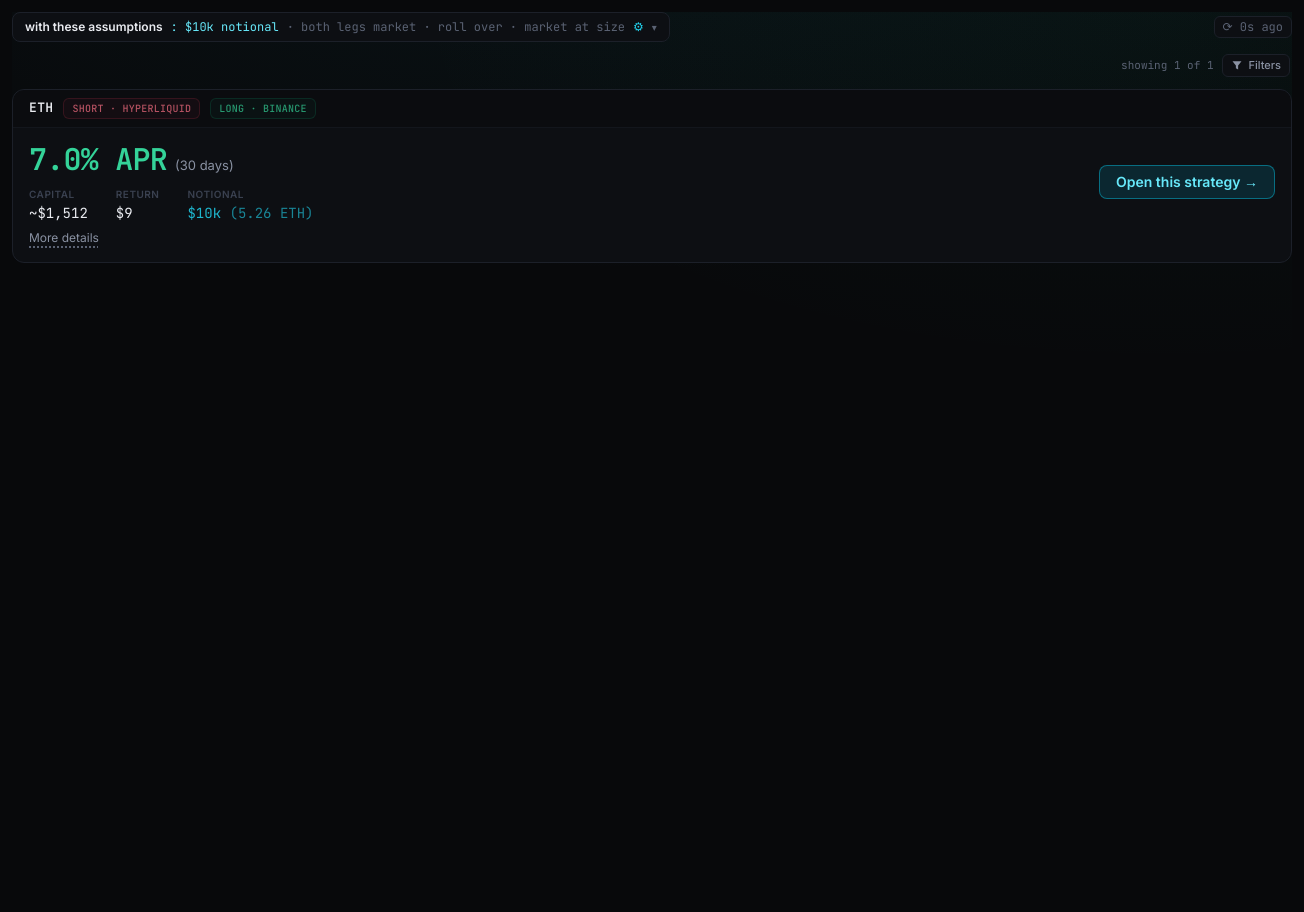
Test: OpportunitiesPanel — collateral bracket › brackets the notional in the collateral token on non-USDT groups
Expected: the element titled "$10,000 per leg ≈ 5.2632 ETH" reads "$10k (5.26 ETH)", [188,204,314,222]
Click the button "More details": click(64, 238) [29,230,99,246]
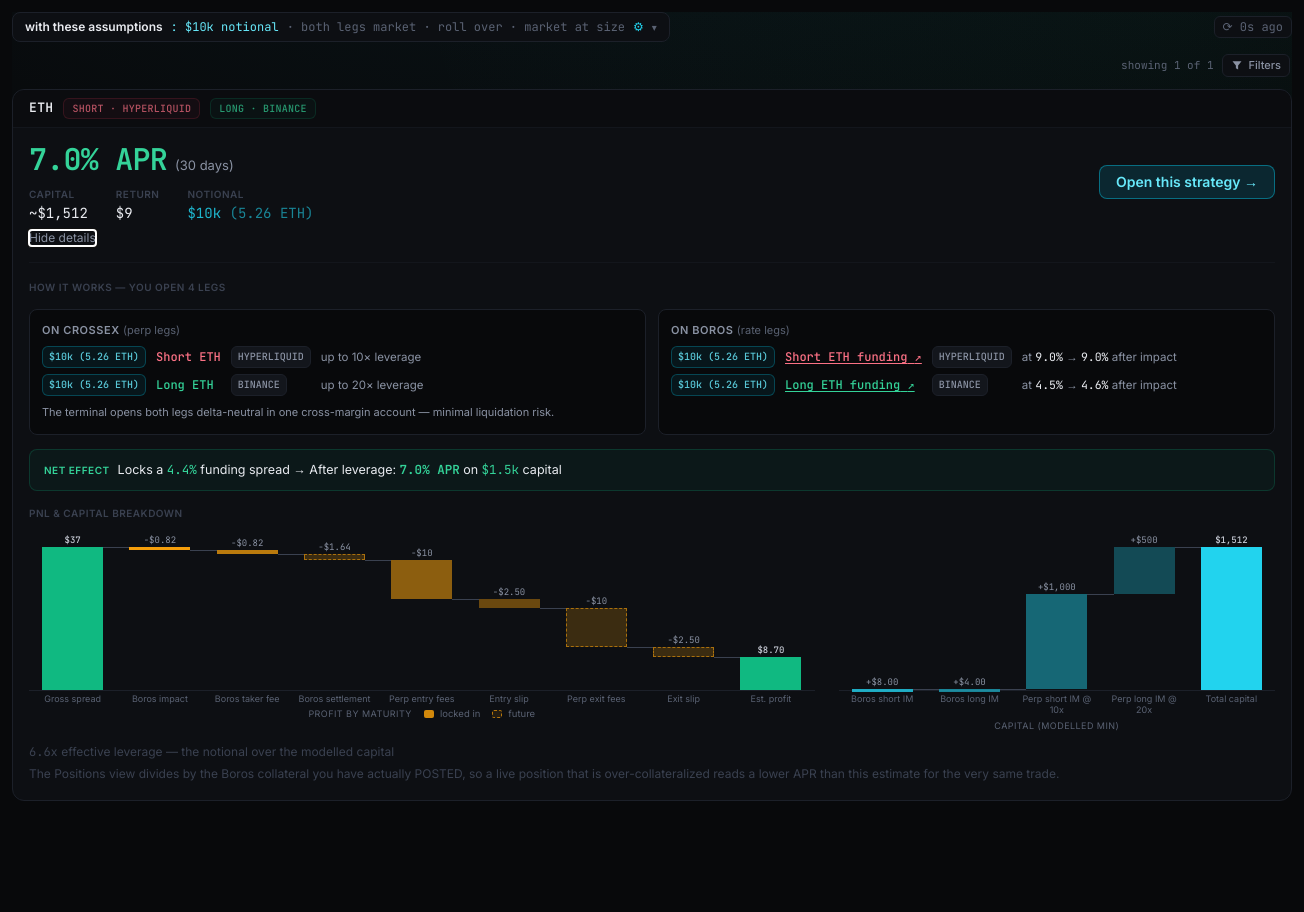
Expected: the text "$10k (5.26 ETH)" is shown 2 times, [42,346,146,368]; [42,374,146,396]
